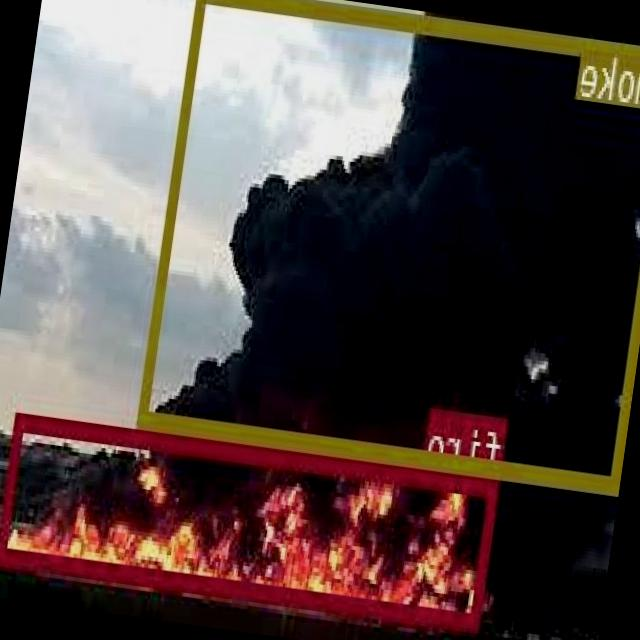fire: (0, 411, 501, 628)
smoke: (140, 0, 640, 493)
